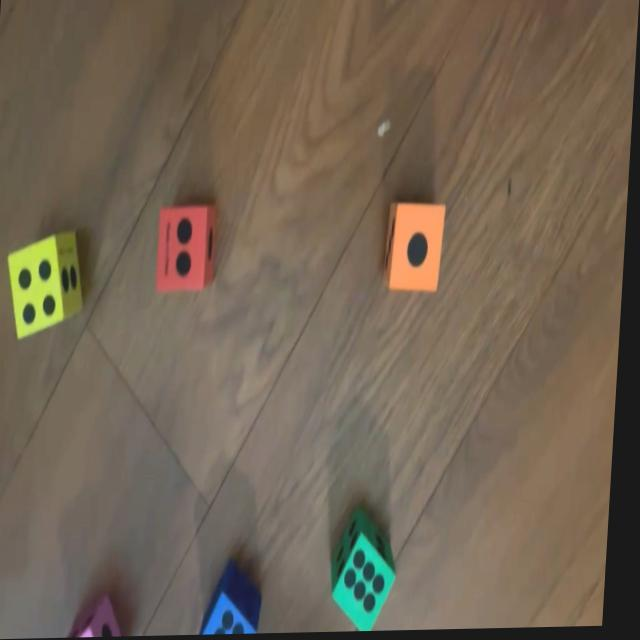blue_block: (207, 565, 272, 636)
red_block: (159, 202, 223, 291)
